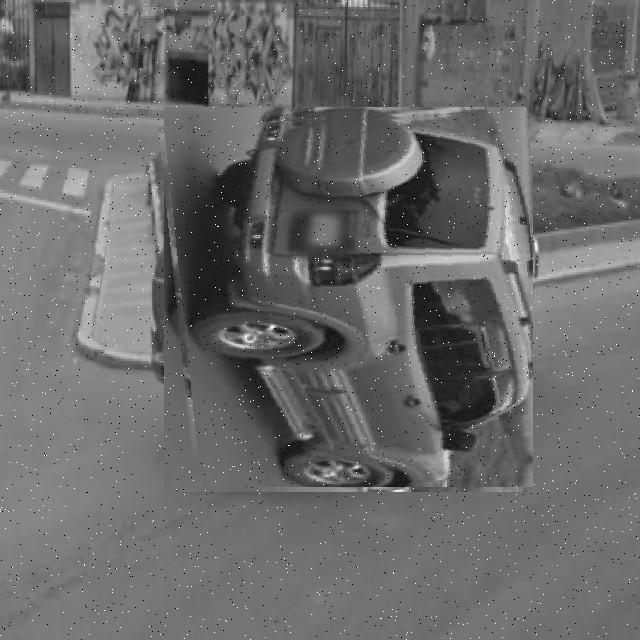car: (159, 113, 534, 488)
